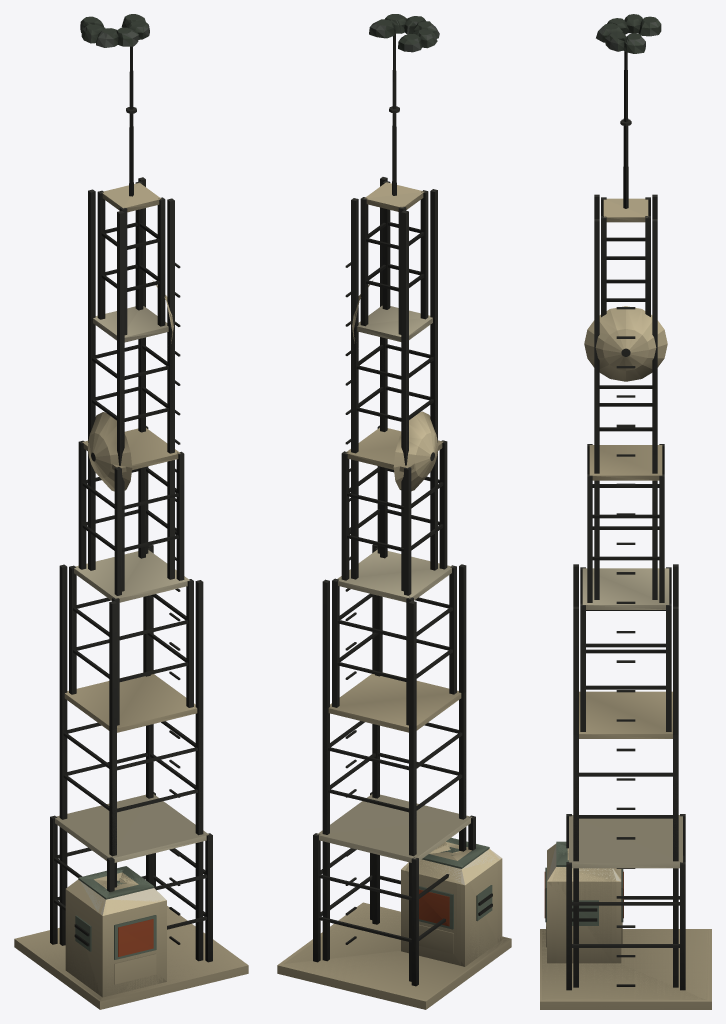
File: neutral_relay_transmitter_damaged.glb
3 views of the same model, side by side, from view 1: azimuth 30°, elevation 25°; view 2: azimuth 150°, elevation 25°; view 3: azimuth 270°, elevation 25° (orthographic).
Parts seen in each view (by area): view 1: body (×3); view 2: body (×3); view 3: body (×3).
Boxes of the visible parts, x1=… form: body (×3): x1=14, y1=14, x2=248, y2=1009; body (×3): x1=277, y1=14, x2=511, y2=1009; body (×3): x1=540, y1=14, x2=711, y2=1009.
Bounding box in the file's own units: 3.7 × 22.34 × 3.7.
